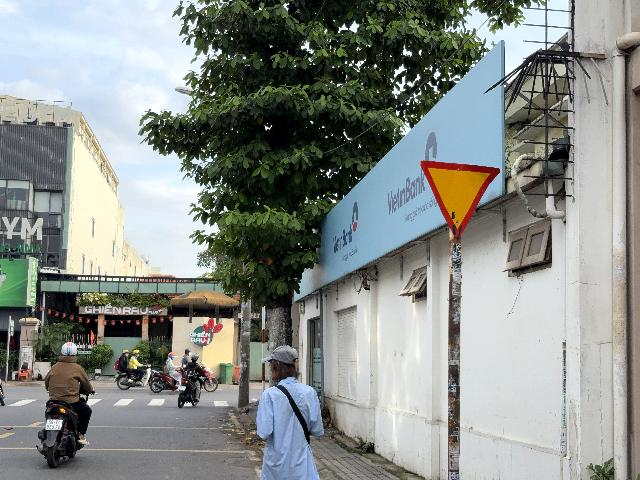giao-nhau-voi-duong-uu-tien: (419, 160, 501, 239)
